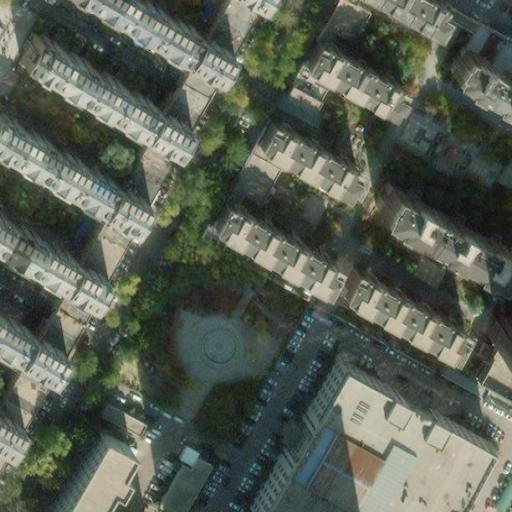building: (244, 353, 488, 512), (18, 37, 179, 144), (376, 191, 508, 285), (336, 259, 466, 353), (206, 194, 334, 286), (292, 25, 405, 109), (251, 111, 360, 191), (32, 419, 119, 512), (222, 138, 282, 211), (152, 441, 206, 512), (457, 42, 512, 99), (72, 207, 123, 268), (31, 280, 81, 339), (278, 57, 330, 109), (473, 347, 512, 407), (97, 399, 149, 439), (472, 20, 512, 65), (293, 188, 330, 228), (490, 315, 512, 355)
